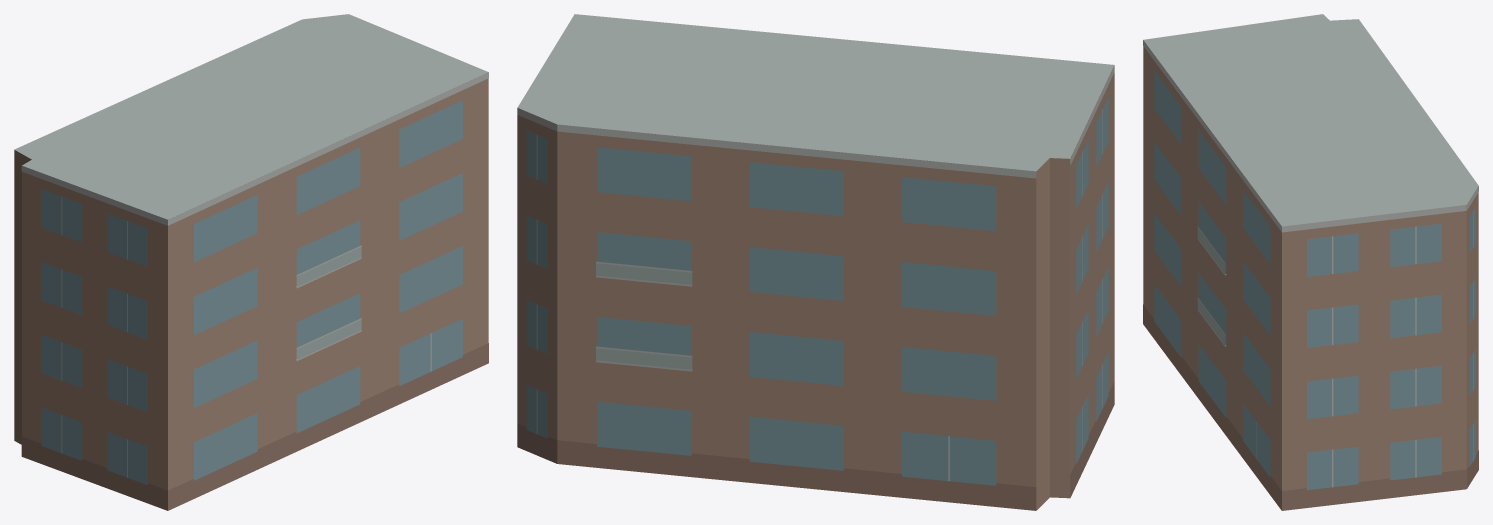
File: survey-upis-32666514.glb
3 views of the same model, side by side, from view 1: azimuth 30°, elevation 25°; view 2: azimuth 150°, elevation 25°; view 3: azimuth 270°, elevation 25° (orthographic). The views are drawn at different scales.
Visible parts, largest first — view 1: survey-upis-32666514.tmp; view 2: survey-upis-32666514.tmp; view 3: survey-upis-32666514.tmp.
Boxes of the visible parts, x1,y1,x2,y2 form: survey-upis-32666514.tmp: (14, 14, 488, 510); survey-upis-32666514.tmp: (517, 14, 1114, 510); survey-upis-32666514.tmp: (1143, 14, 1478, 510).
Size of the model in its own units: 18.77 by 11.7 by 12.53.
